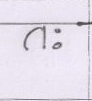anusvara: (55, 29, 60, 33)
